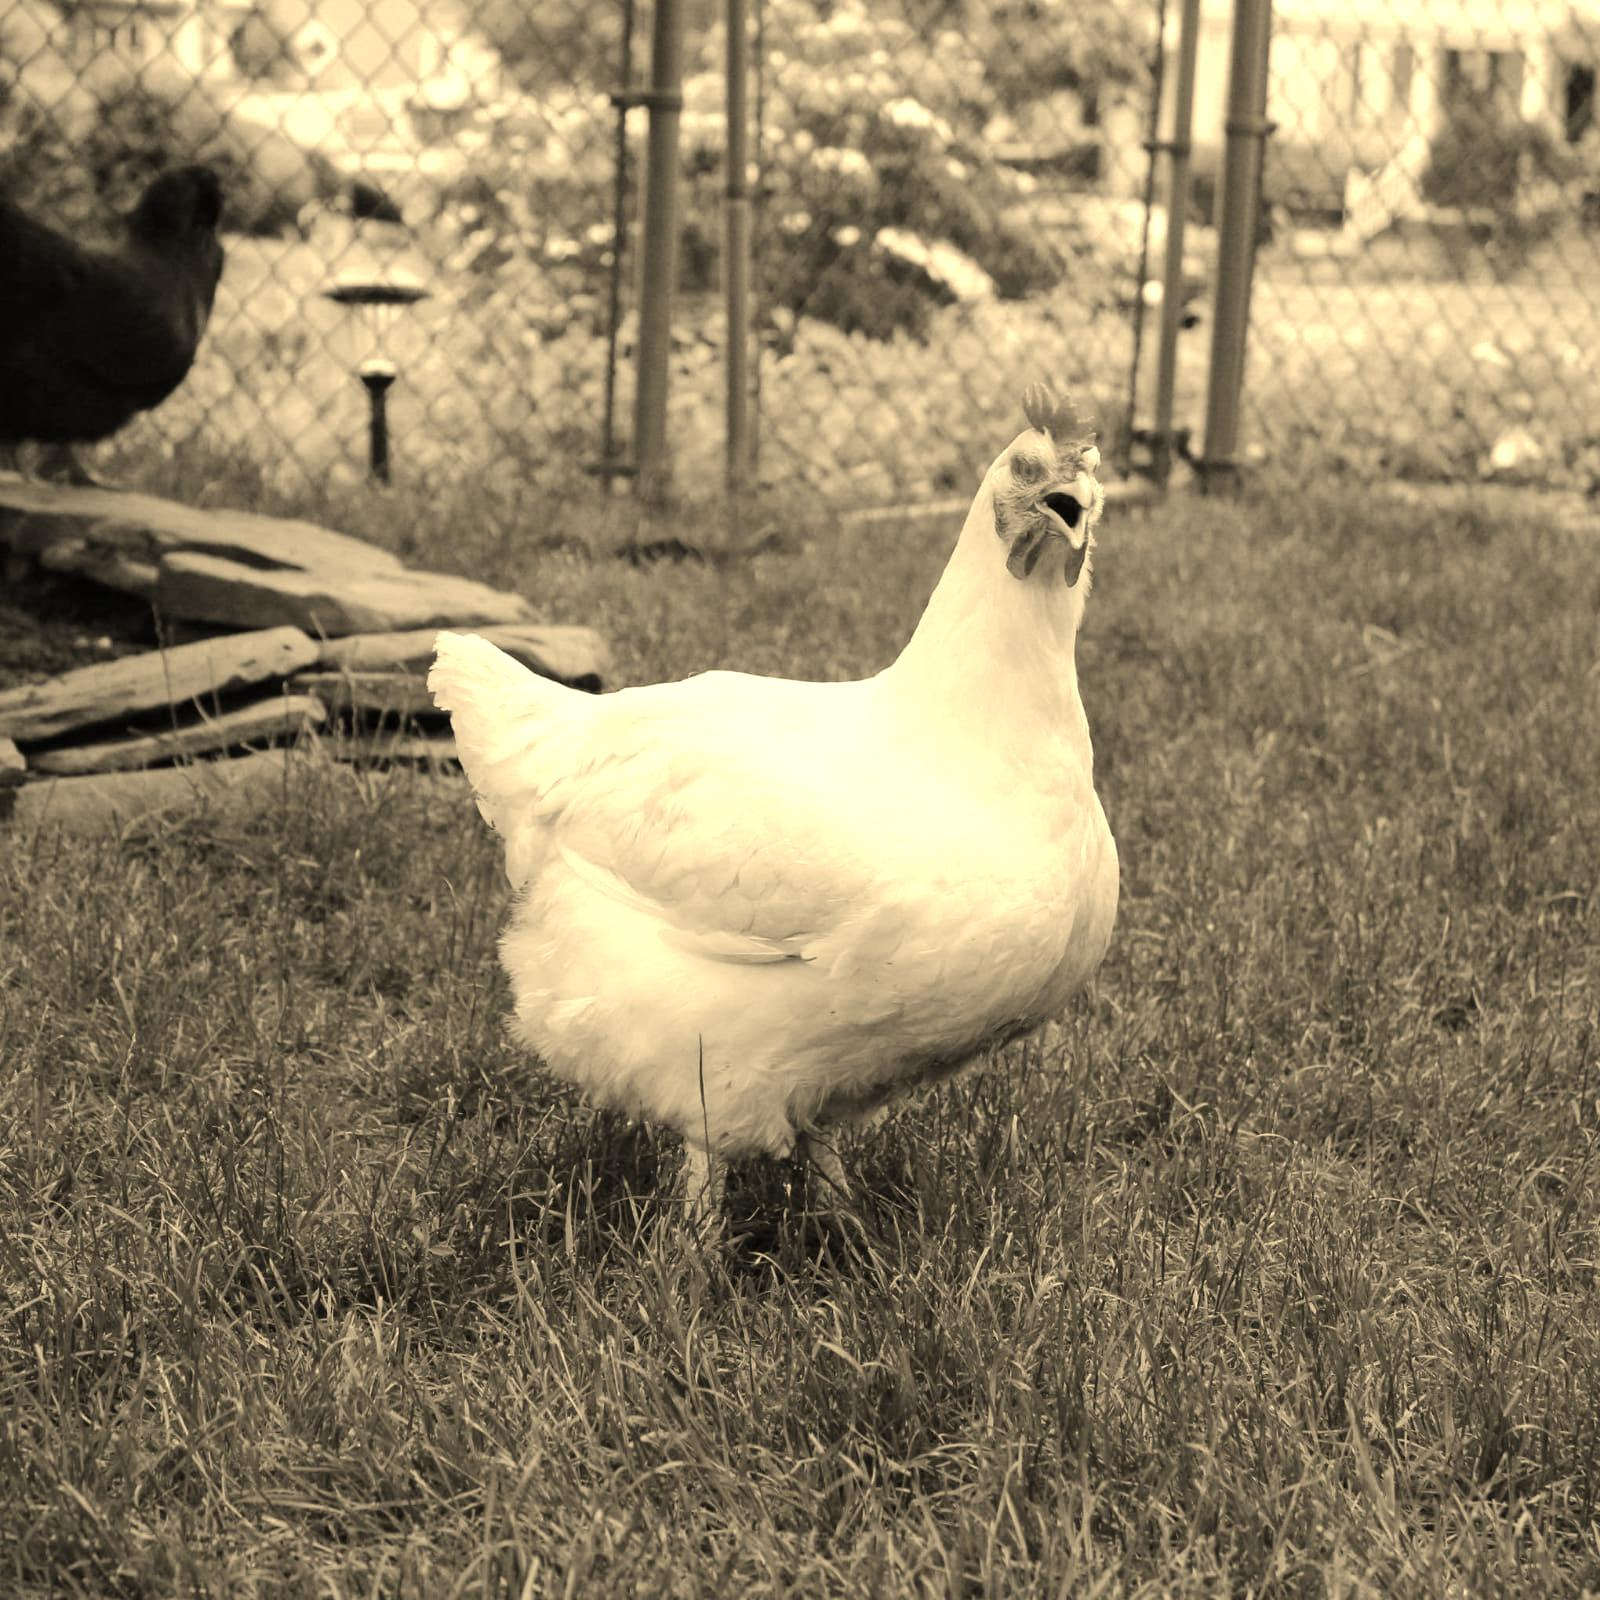Healthy: (397, 381, 1171, 1286)
